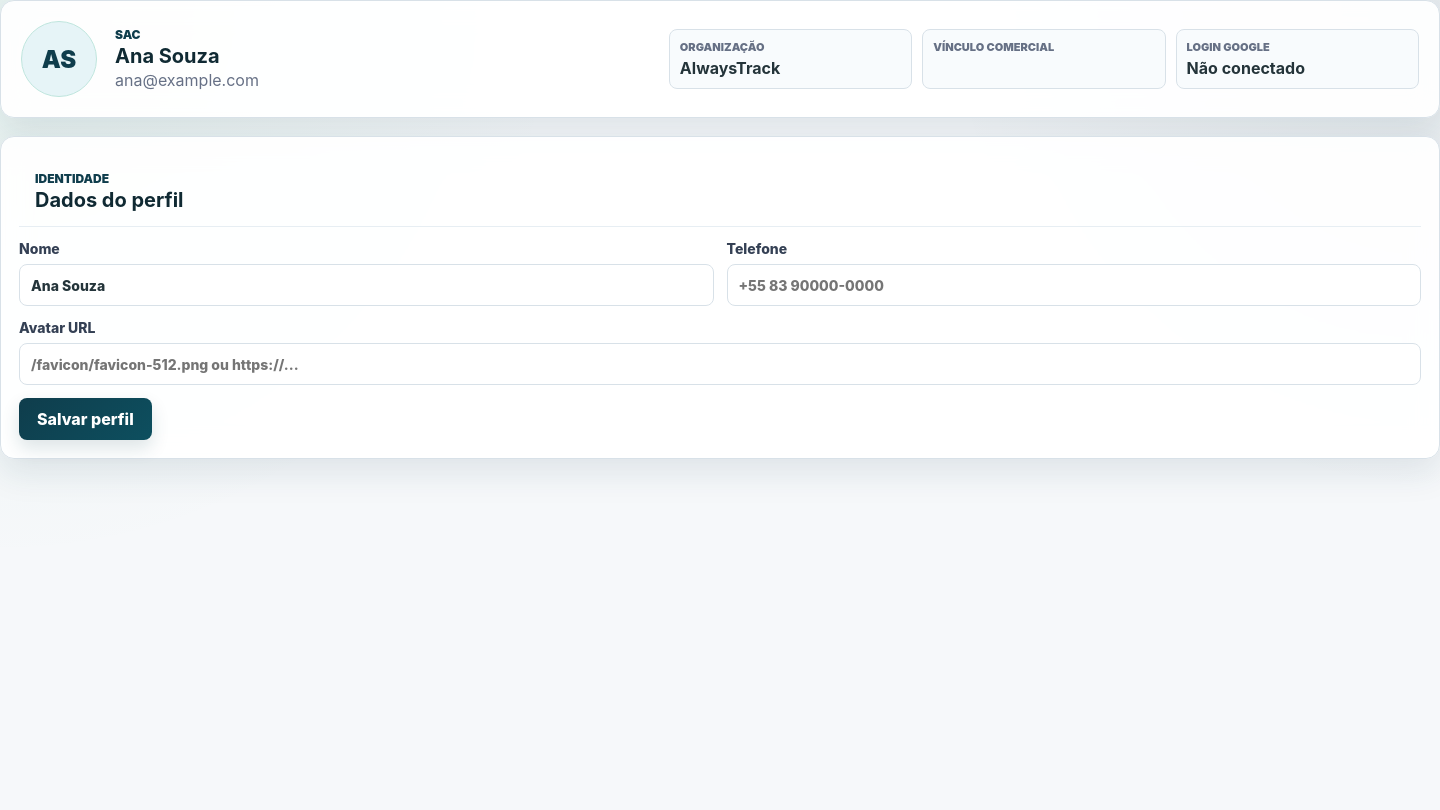
Test: ProfileView identity › edits identity and updates the current user
Replace the text in the field labelled "Nome" with "Ana Lima" at (366, 285), box [19,264,714,306]
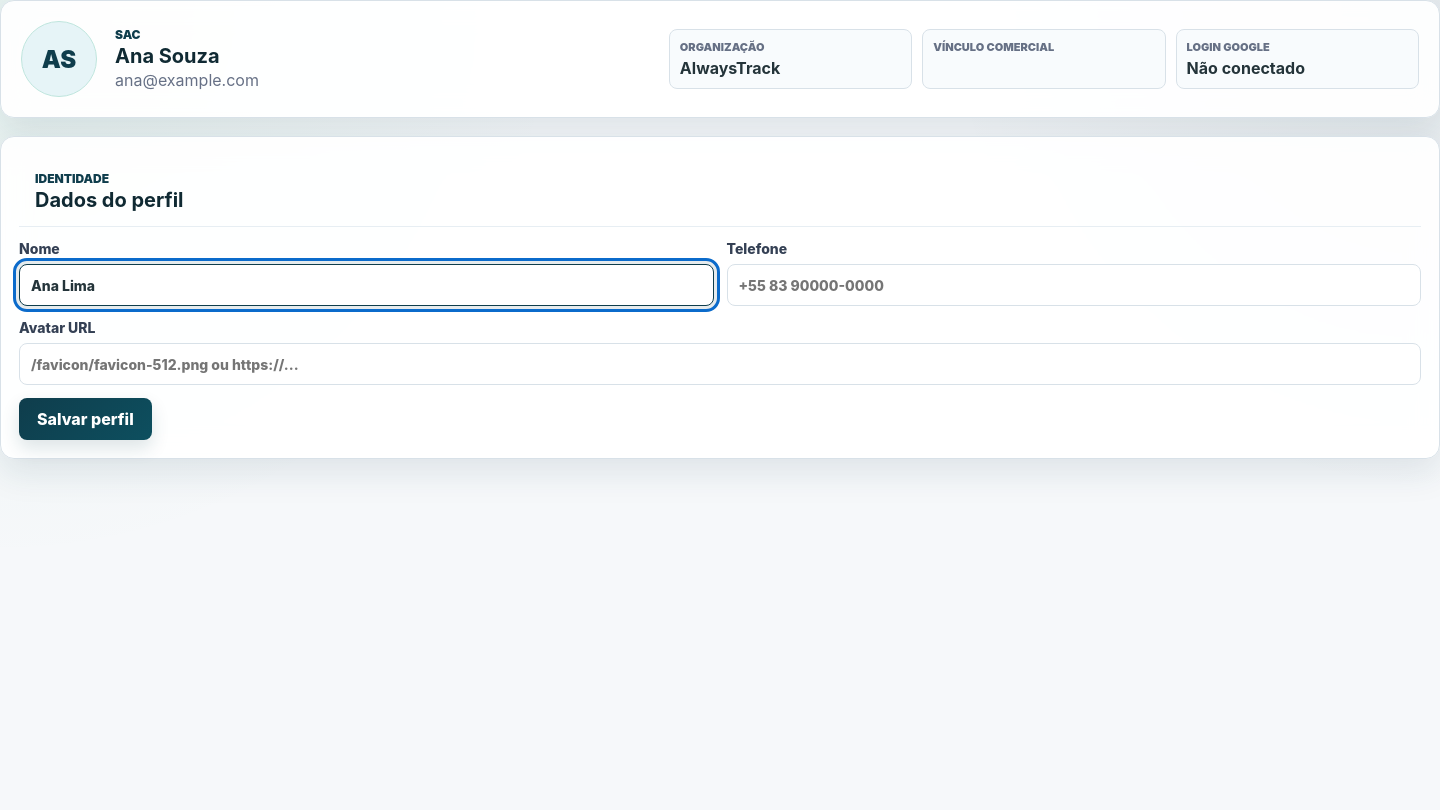
Type "+55 83 98888-7777" into the field labelled "Telefone" at (1074, 285), box [726,264,1421,306]
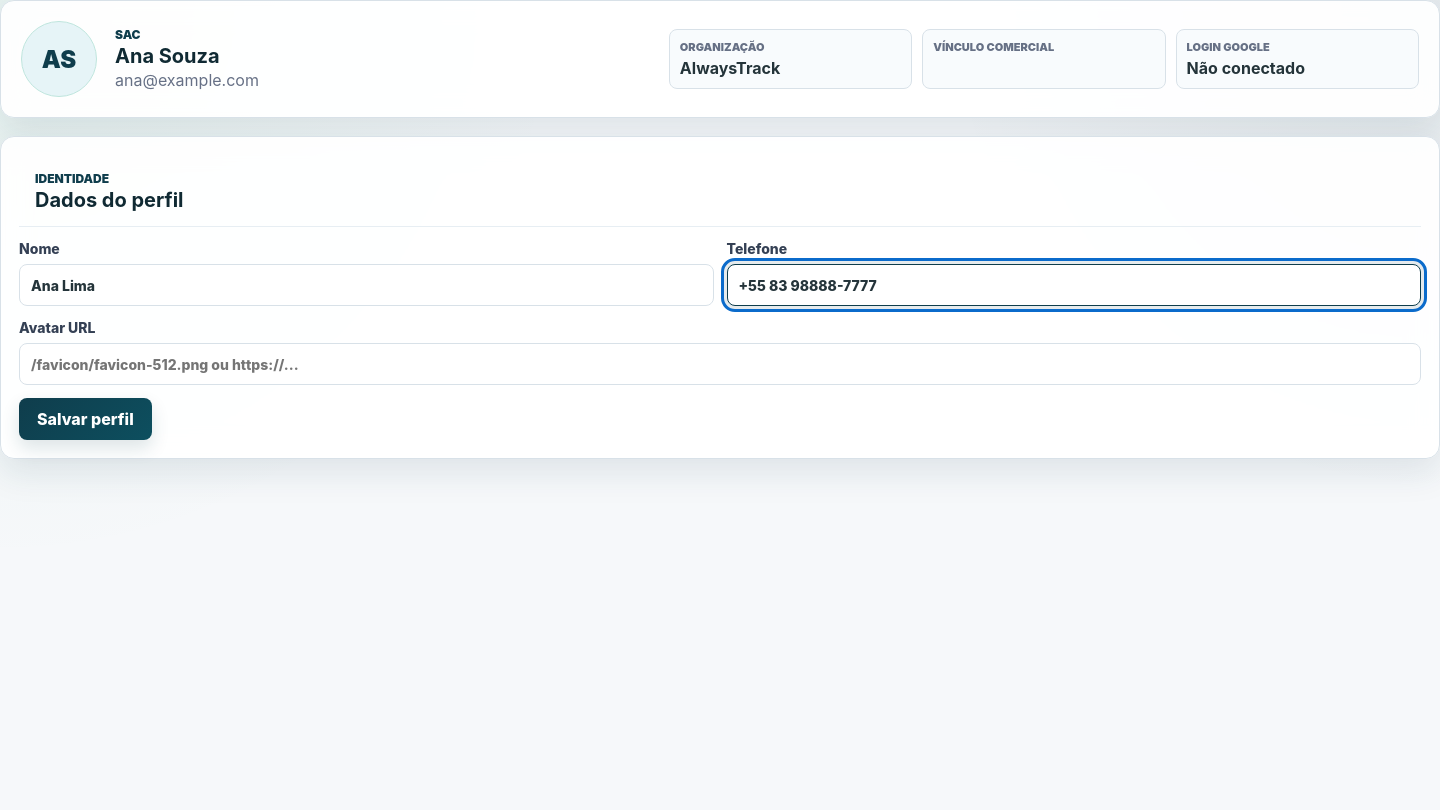
Type "https://example.com/ana.png" into the field labelled "Avatar URL" at (720, 364), box [19,343,1421,385]
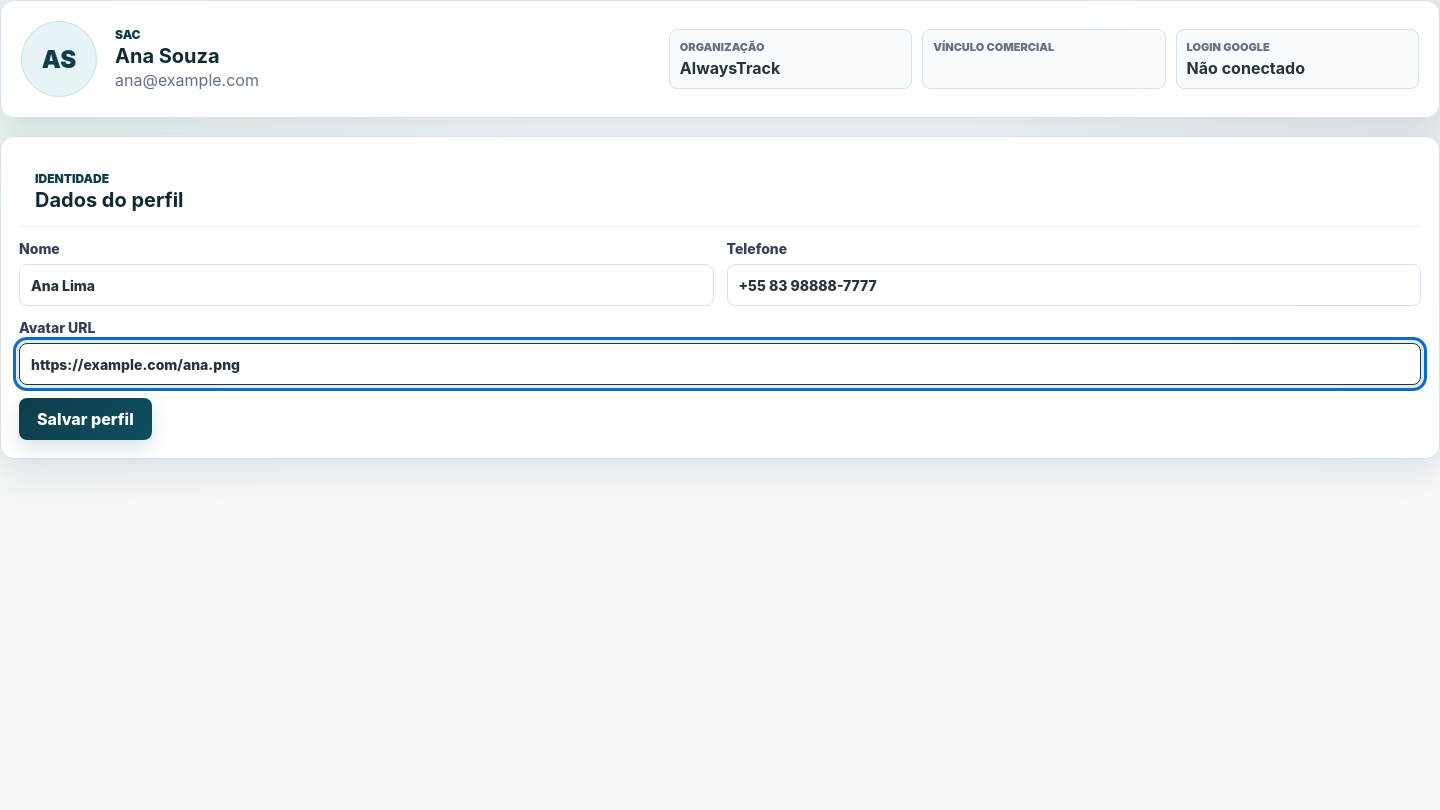
Click the button "Salvar perfil" at (85, 419), box [19,398,152,440]
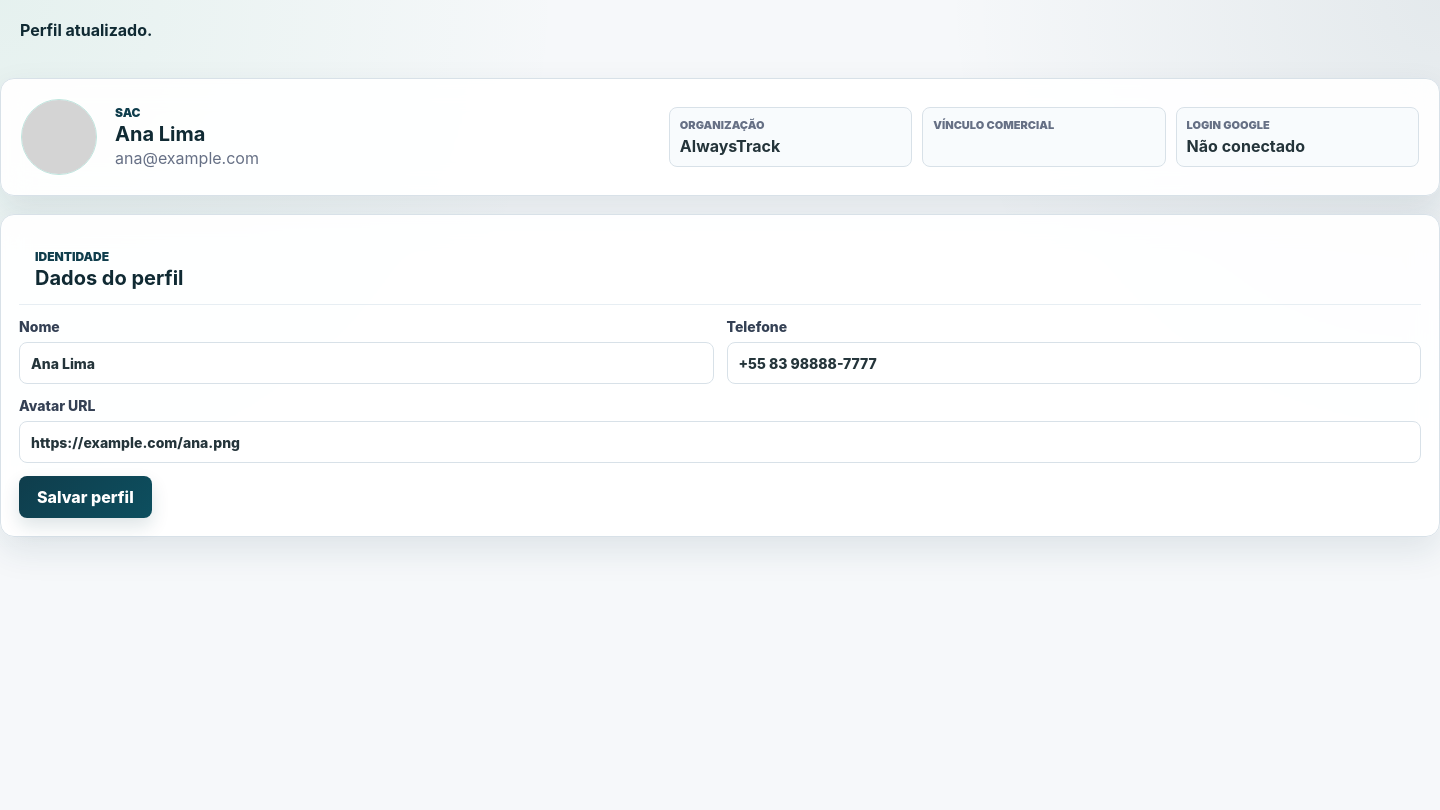
Now the text "Perfil atualizado." is shown, box [20,20,152,40]
